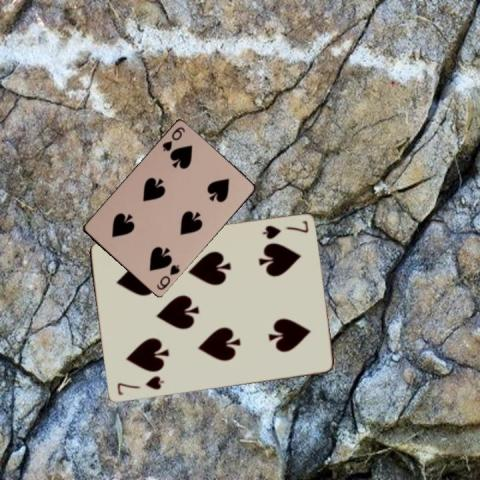6s: (154, 262, 182, 292), (159, 124, 187, 153)
7s: (114, 373, 166, 397), (259, 218, 310, 241)
